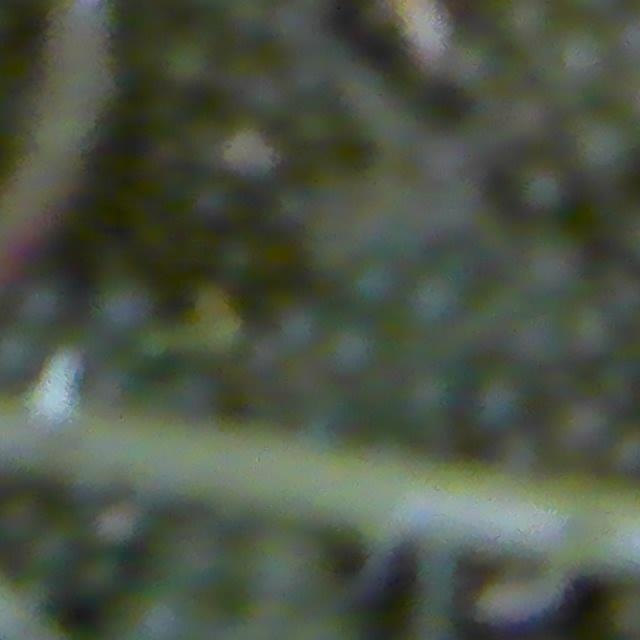SeaGrape: (545, 23, 615, 101), (569, 112, 637, 184), (500, 161, 573, 224), (470, 374, 534, 434), (319, 319, 382, 379), (400, 275, 463, 335), (343, 255, 406, 315), (396, 370, 459, 430), (95, 278, 158, 338), (10, 276, 73, 336), (490, 0, 556, 51), (0, 328, 37, 381)
